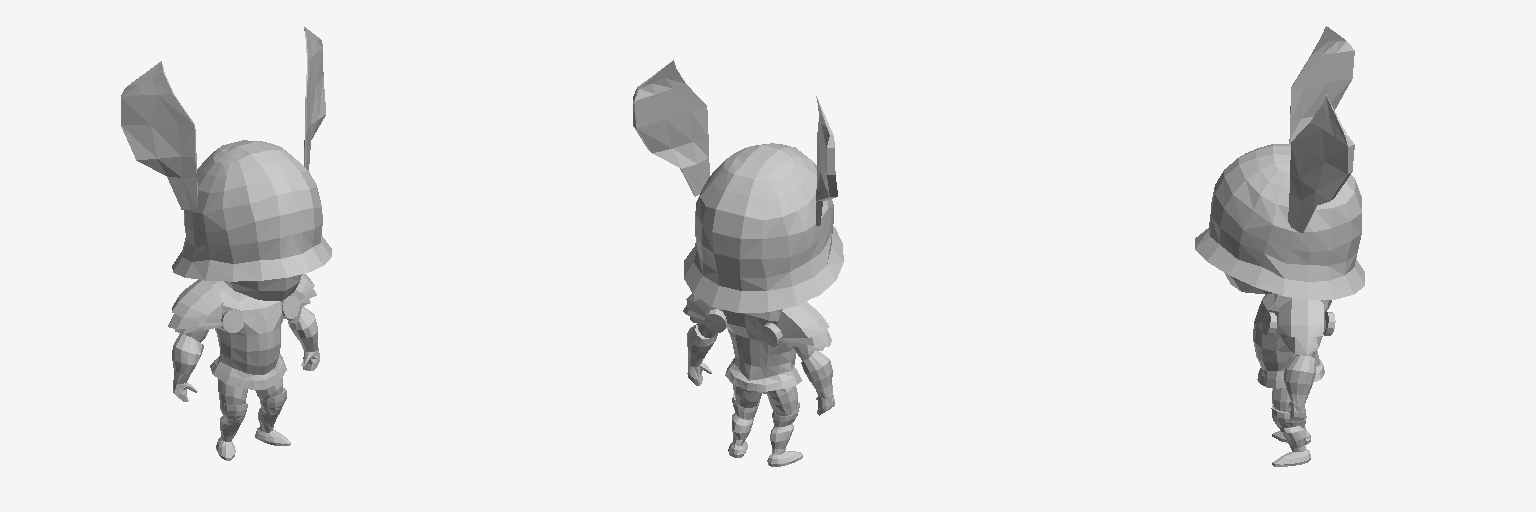
File: SoldierPainted.obj
3 views of the same model, side by side, from view 1: azimuth 30°, elevation 25°; view 2: azimuth 150°, elevation 25°; view 3: azimuth 270°, elevation 25° (orthographic).
Parts seen in each view (by area): view 1: Helmet_Helmet, Wing_cool_Wing_cool, Chest_Chest, Glove_cool_Glove_cool, Boots_Boots, Shoulder_Top_Shoulder_Top, Face_Cool_Face_Cool, Legs_Poly_Legs_Poly, Thor_CoolFront_Thor_CoolFront; view 2: Helmet_Helmet, Wing_cool_Wing_cool, Chest_Chest, Glove_cool_Glove_cool, Boots_Boots, Shoulder_Top_Shoulder_Top, Legs_Poly_Legs_Poly, Thor_CoolBack_Thor_CoolBack; view 3: Helmet_Helmet, Wing_cool_Wing_cool, Chest_Chest, Shoulder_Top_Shoulder_Top, Glove_cool_Glove_cool, Boots_Boots.
Part boxes in pixels (left/top/right/bottom): Helmet_Helmet: left=172, top=140, right=331, bottom=281; Wing_cool_Wing_cool: left=121, top=27, right=325, bottom=209; Chest_Chest: left=207, top=281, right=286, bottom=389; Glove_cool_Glove_cool: left=172, top=306, right=319, bottom=401; Boots_Boots: left=216, top=388, right=290, bottom=460; Shoulder_Top_Shoulder_Top: left=172, top=274, right=314, bottom=322; Face_Cool_Face_Cool: left=224, top=274, right=301, bottom=301; Legs_Poly_Legs_Poly: left=218, top=378, right=282, bottom=404; Thor_CoolFront_Thor_CoolFront: left=221, top=295, right=299, bottom=332; Helmet_Helmet: left=684, top=143, right=843, bottom=312; Wing_cool_Wing_cool: left=633, top=60, right=837, bottom=225; Chest_Chest: left=719, top=309, right=801, bottom=391; Glove_cool_Glove_cool: left=687, top=323, right=834, bottom=415; Boots_Boots: left=728, top=394, right=802, bottom=466; Shoulder_Top_Shoulder_Top: left=686, top=293, right=829, bottom=337; Legs_Poly_Legs_Poly: left=733, top=384, right=797, bottom=415; Thor_CoolBack_Thor_CoolBack: left=704, top=309, right=782, bottom=346; Helmet_Helmet: left=1195, top=144, right=1364, bottom=299; Wing_cool_Wing_cool: left=1288, top=26, right=1354, bottom=232; Chest_Chest: left=1253, top=293, right=1328, bottom=388; Shoulder_Top_Shoulder_Top: left=1276, top=298, right=1325, bottom=337; Glove_cool_Glove_cool: left=1284, top=355, right=1316, bottom=421; Boots_Boots: left=1271, top=388, right=1310, bottom=466.
Size of the model in its own units: 150 by 276 by 109.